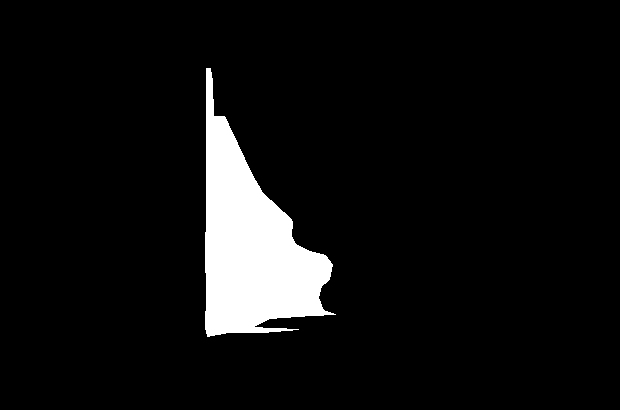type2: (201, 64, 338, 337)
